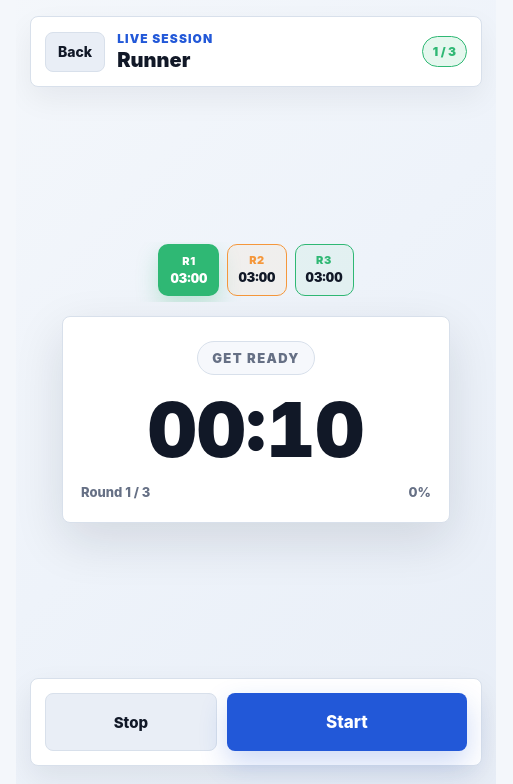
Test: SessionRunScreen › starts, pauses and persists an in-progress run
Expected: the text "Runner" is shown, 117,48 -> 190,72
Click the button "Start". click: (347, 722)
box: 227,693 -> 467,751
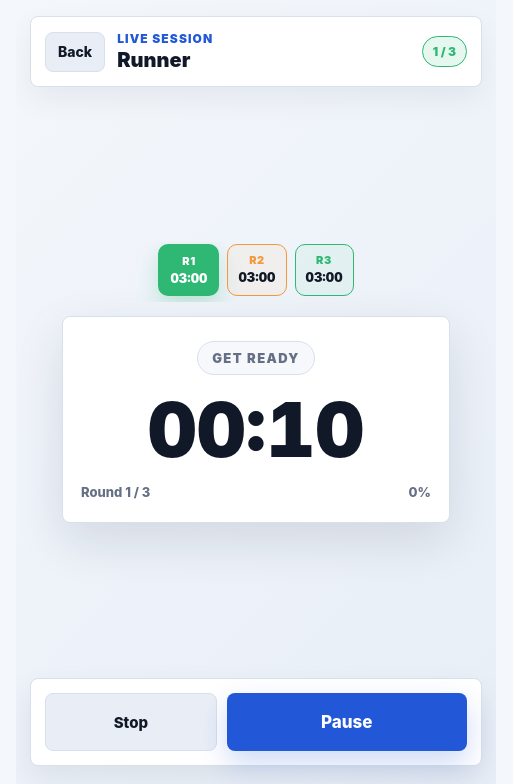
Result: the button "Pause" is shown
Click the button "Pause". click: (347, 722)
box: 227,693 -> 467,751
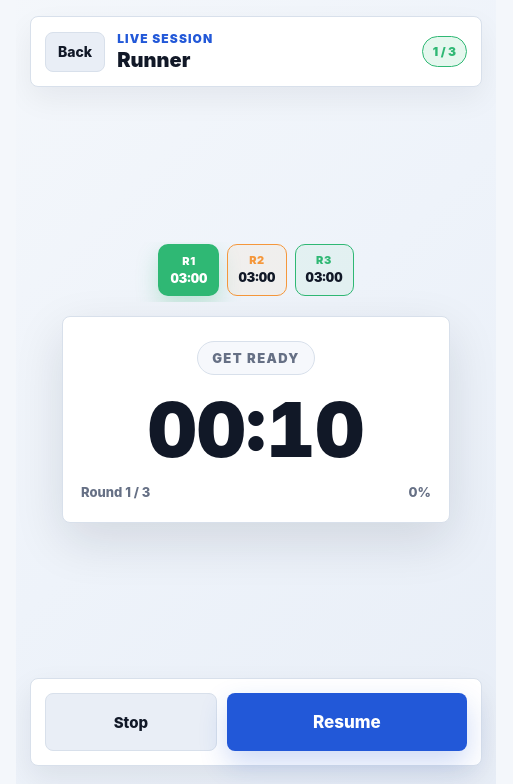
Result: the button "Resume" is shown at 227,693 -> 467,751
